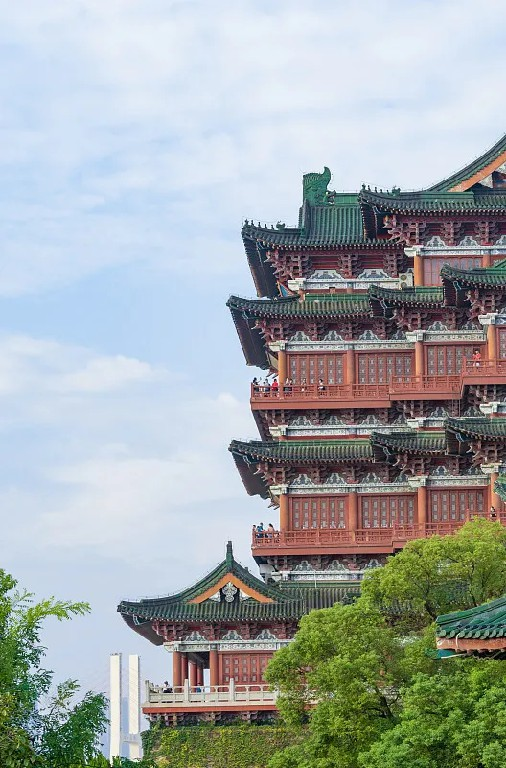Teng: (117, 134, 506, 705)
